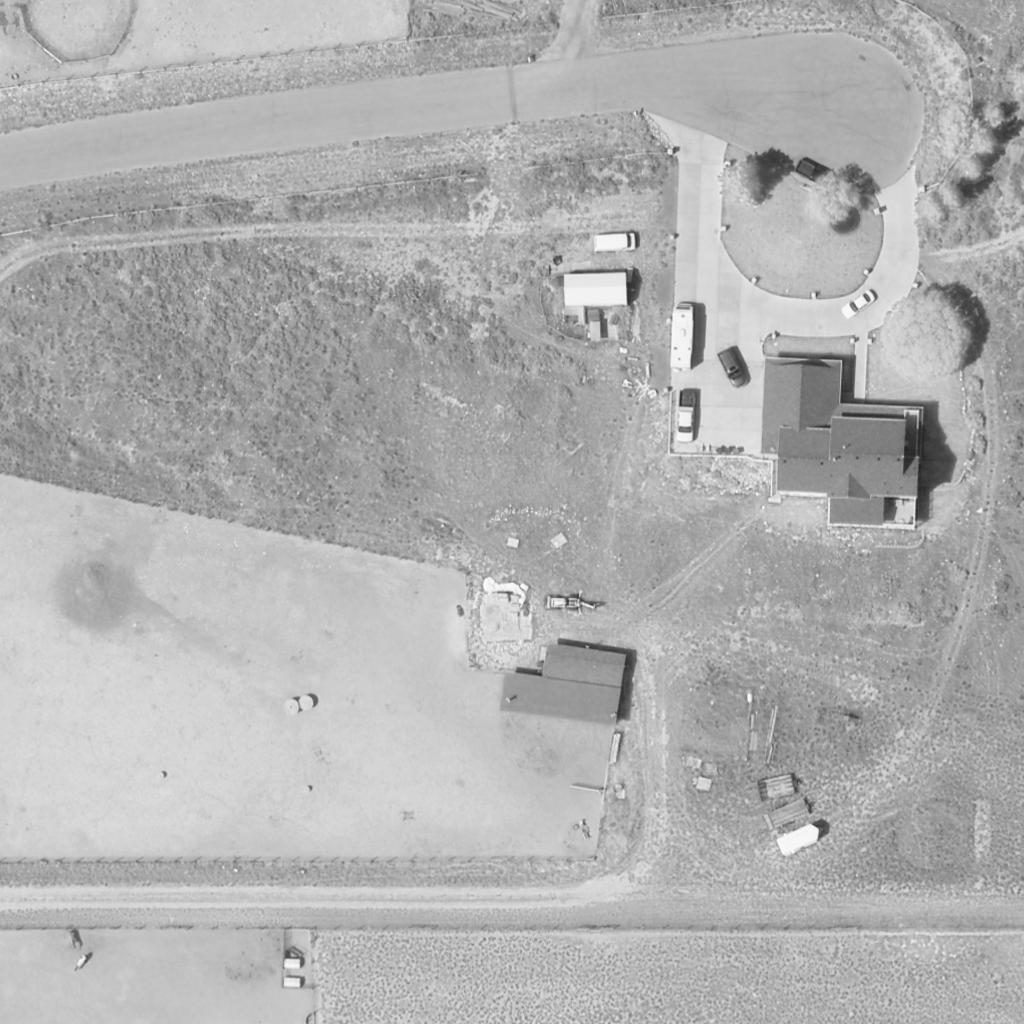vehicle: (670, 304, 696, 370), (837, 288, 881, 320), (673, 389, 699, 443), (796, 158, 840, 188), (718, 349, 750, 387), (593, 232, 637, 252)
